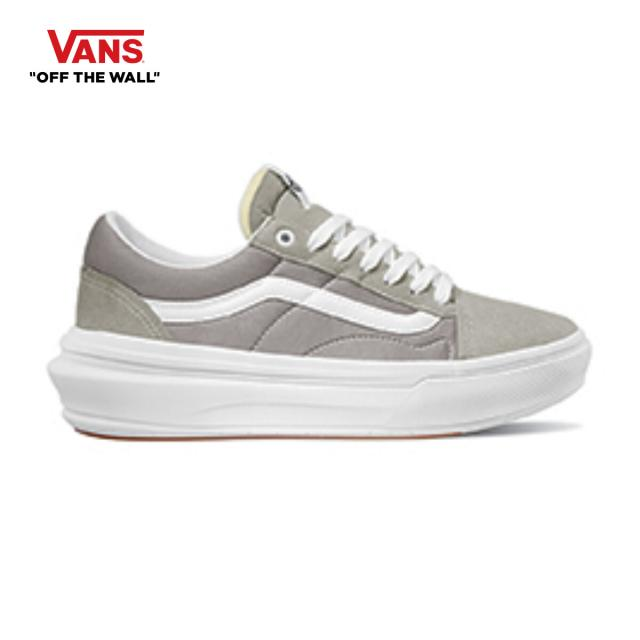shoe: (46, 161, 604, 436)
